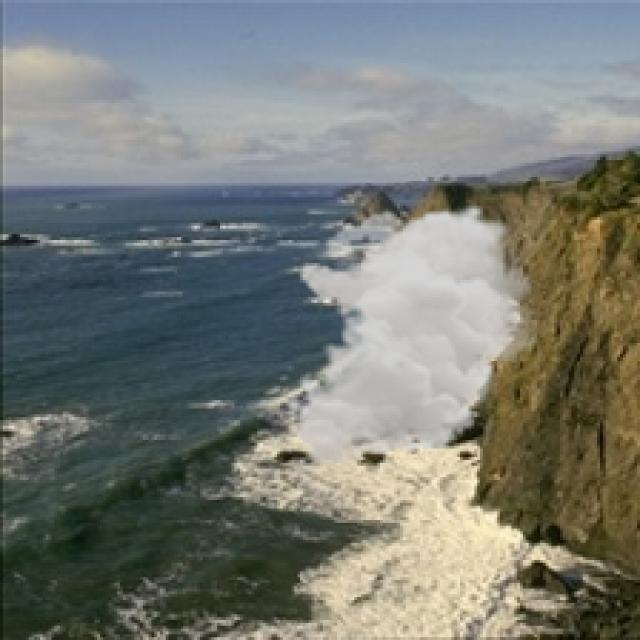Smoke: (283, 203, 546, 466)
